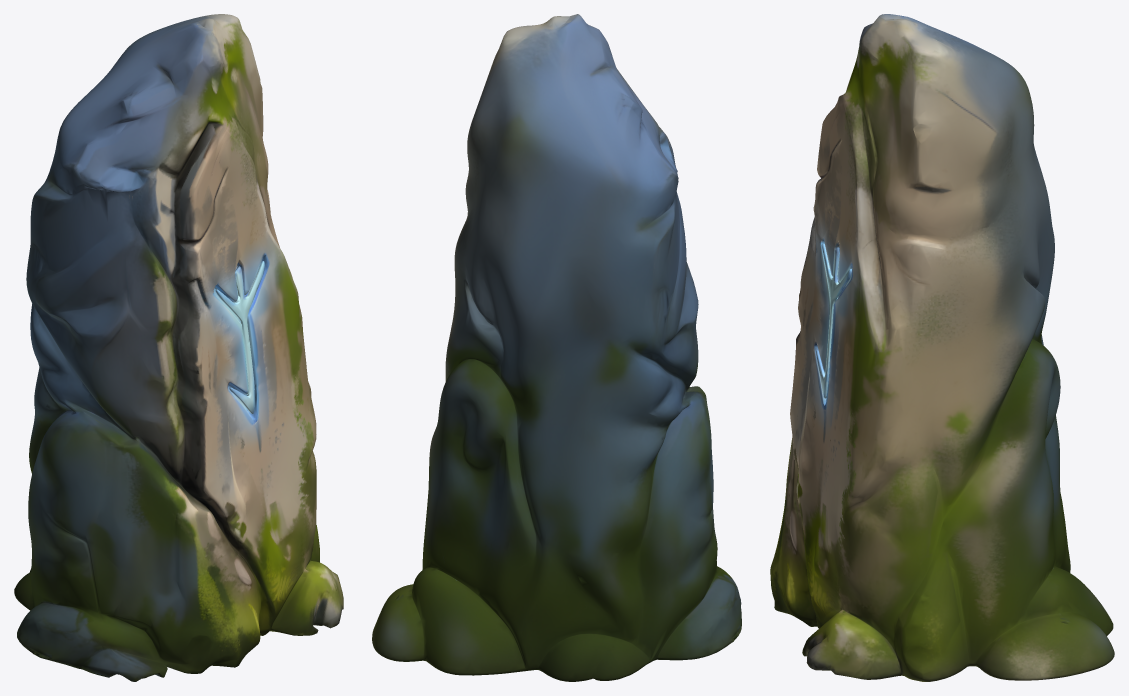
The model's file is stone_unnamed_hunyuan_2026-11-13_0c2fca14.glb.
The picture shows the model from 3 angles, left to right: view 1: azimuth 30°, elevation 25°; view 2: azimuth 150°, elevation 25°; view 3: azimuth 270°, elevation 25°; orthographic projection. The views are drawn at different scales.
Visible parts, largest first — view 1: node_0; view 2: node_0; view 3: node_0.
Part boxes in pixels (x1,y1,x2,y2): node_0: (14, 14, 343, 681); node_0: (372, 14, 741, 681); node_0: (770, 14, 1114, 681).
Bounding box in the file's own units: 0.5326 × 1.02 × 0.522.
Materials: 1 (1 with a texture image).
